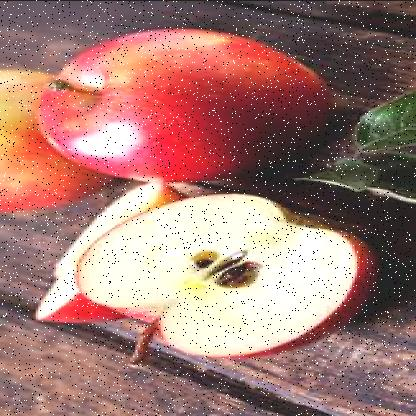apple: (56, 30, 324, 178), (2, 60, 102, 214)
damaged_apple: (84, 192, 364, 370), (30, 178, 174, 327)
